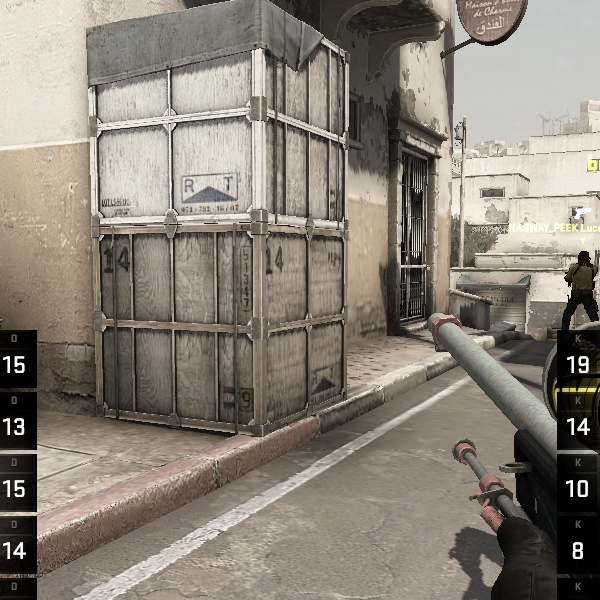t_body: (562, 250, 599, 329)
t_head: (578, 250, 591, 270)
